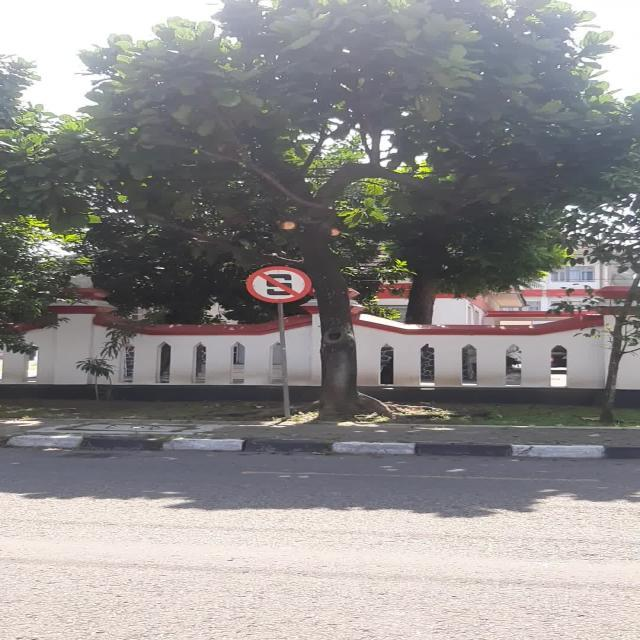Dilarang Berhenti: (246, 266, 312, 303)
